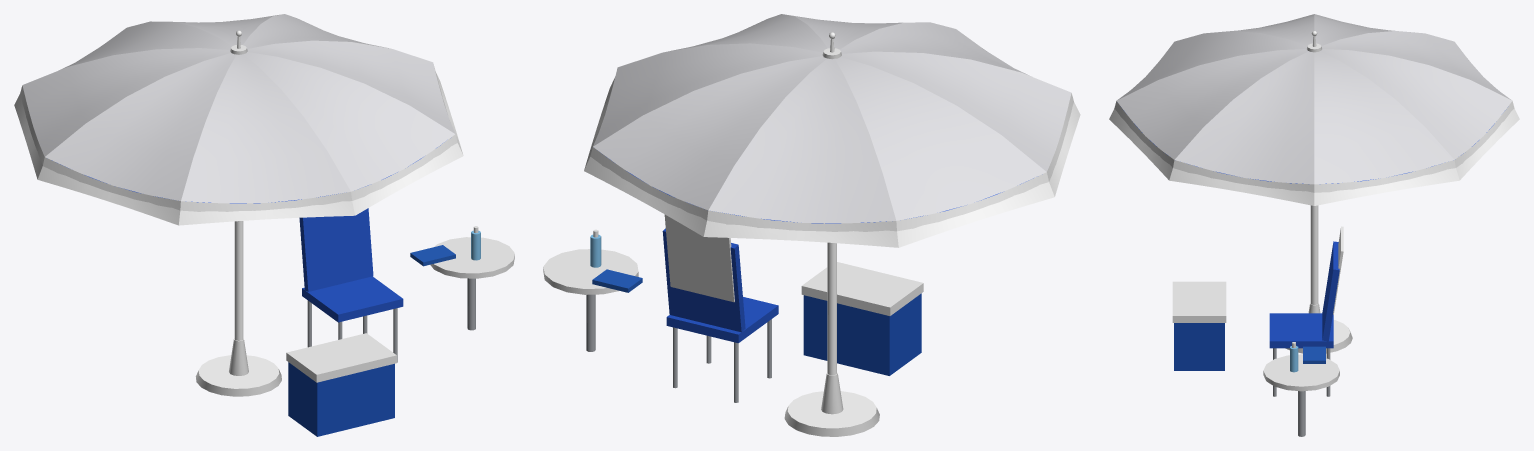
File: DescansoAzul.obj
3 views of the same model, side by side, from view 1: azimuth 30°, elevation 25°; view 2: azimuth 150°, elevation 25°; view 3: azimuth 270°, elevation 25° (orthographic). The views are drawn at different scales.
Parts seen in each view (by area): view 1: DescansoAzul; view 2: DescansoAzul; view 3: DescansoAzul.
Boxes of the visible parts, <box> form: DescansoAzul: <box>14,14,514,436</box>; DescansoAzul: <box>543,14,1080,436</box>; DescansoAzul: <box>1109,14,1519,436</box>.
Size of the model in its own units: 3.71 by 2.65 by 3.22.
1 material, 1 textured.
